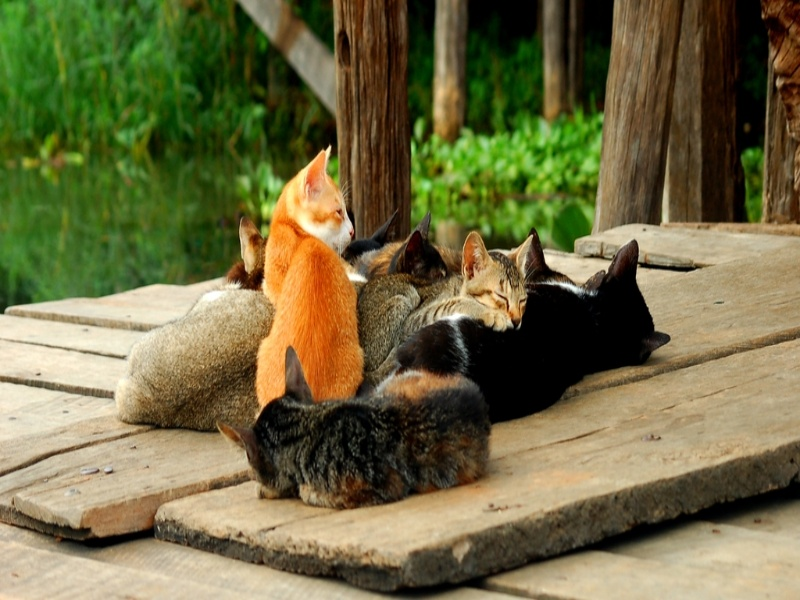cat: (216, 394, 489, 508), (263, 144, 364, 399), (361, 226, 539, 336), (552, 237, 681, 373)
